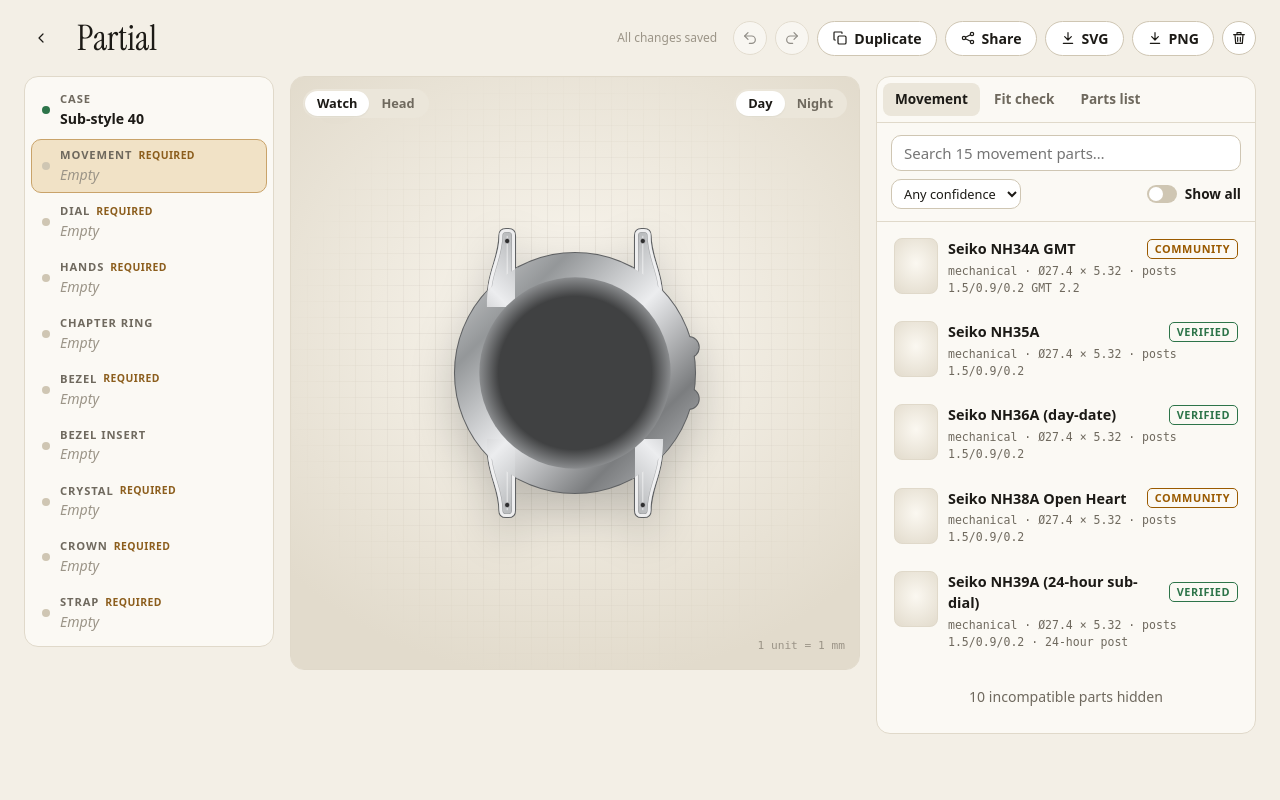
Test: BuilderScreen › "Add a …" links open the matching picker
This screenshot has width=1280, height=800.
Expected: the field named "Build name" is shown, x1=70 y1=16 x2=601 y2=60
Click the tab "Fit check": click(1024, 99) x1=982 y1=83 x2=1066 y2=116
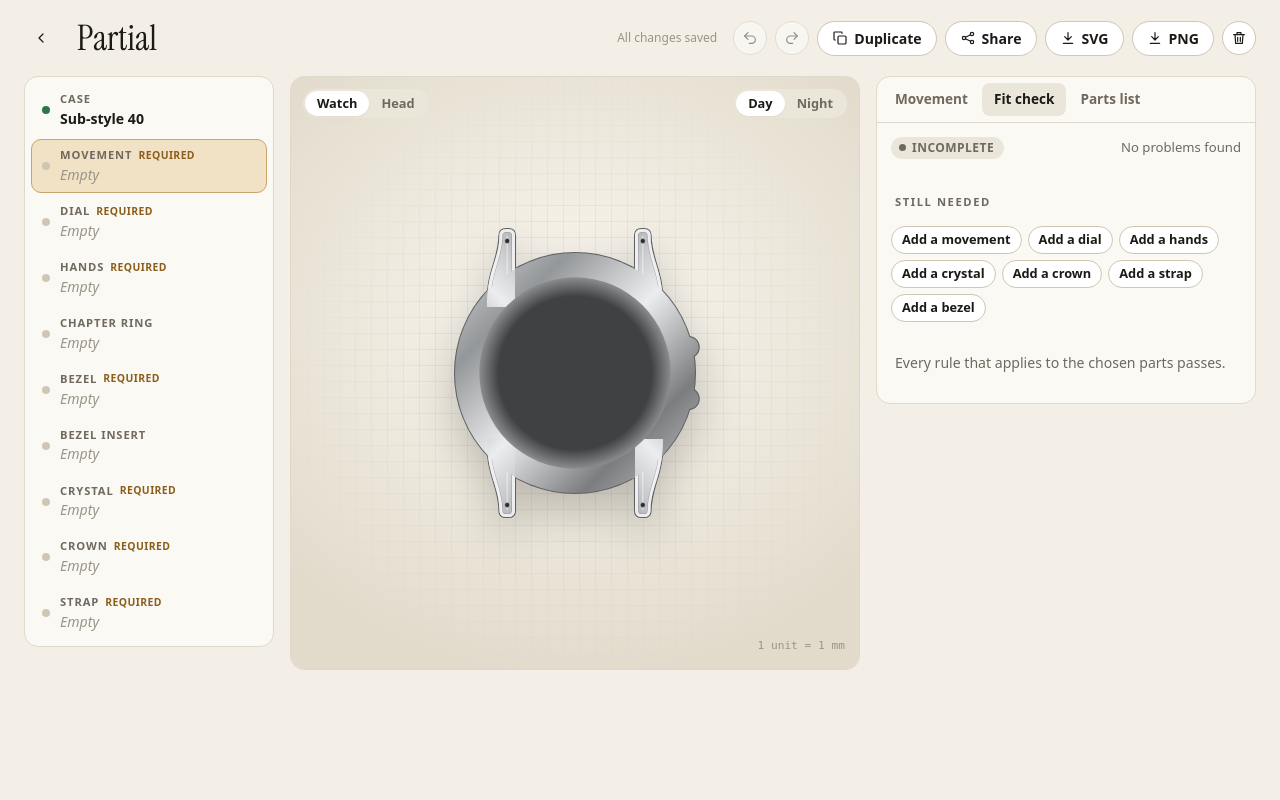
Click the button "Add a dial": click(1070, 240) x1=1028 y1=226 x2=1113 y2=254
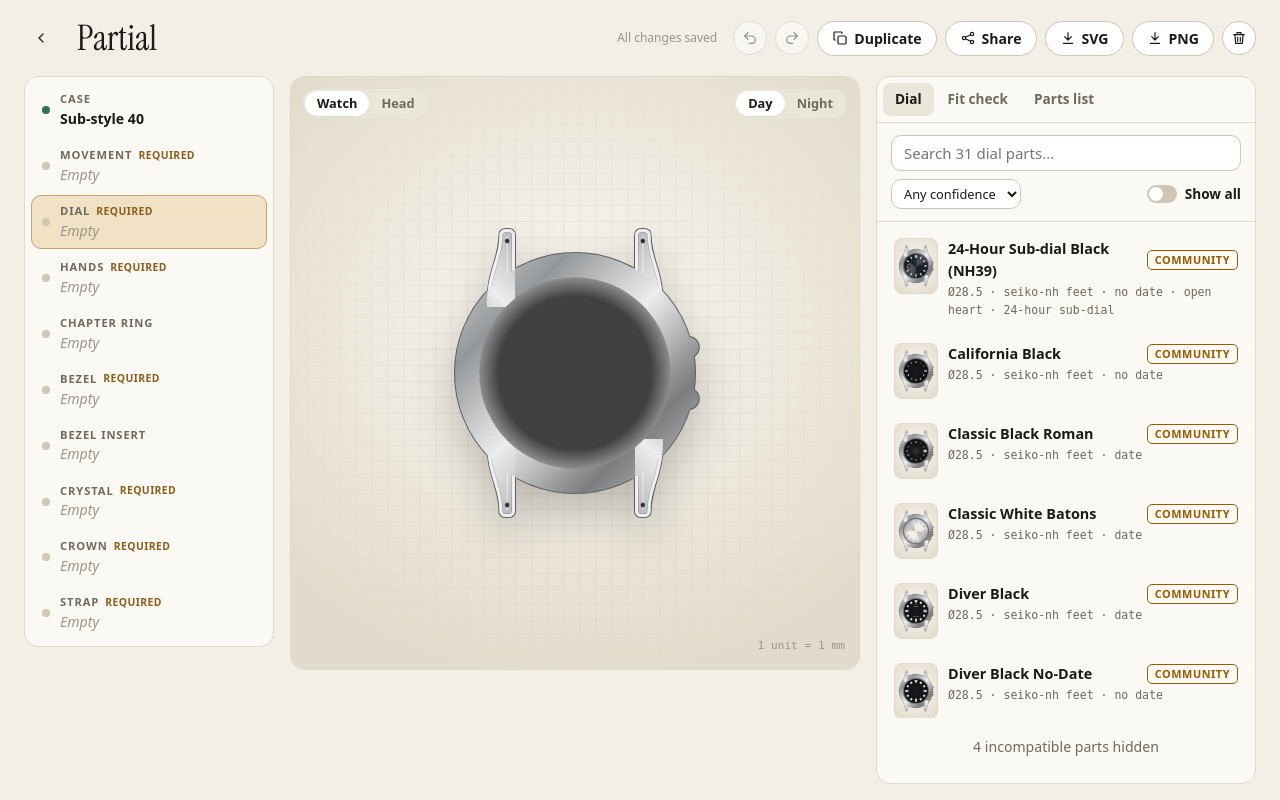
Now the tab "Dial" is shown, box x1=883 y1=83 x2=934 y2=116
Now the list named "Dial options" is shown, box x1=877 y1=222 x2=1255 y2=718
